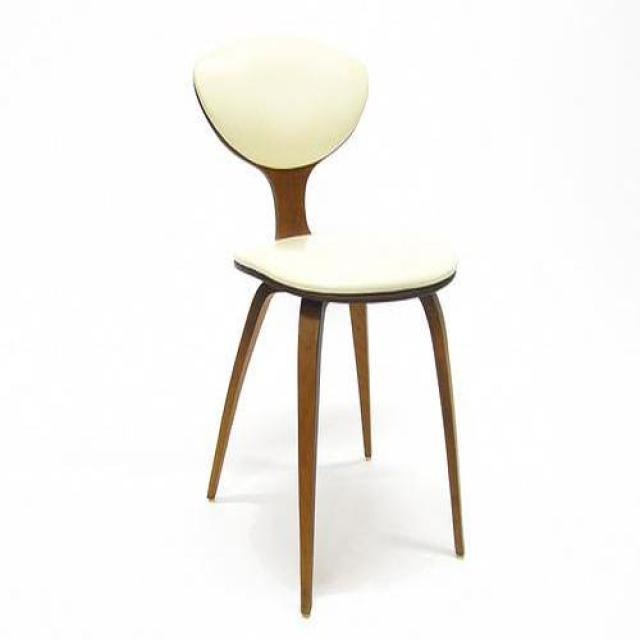chair: (193, 27, 465, 620)
